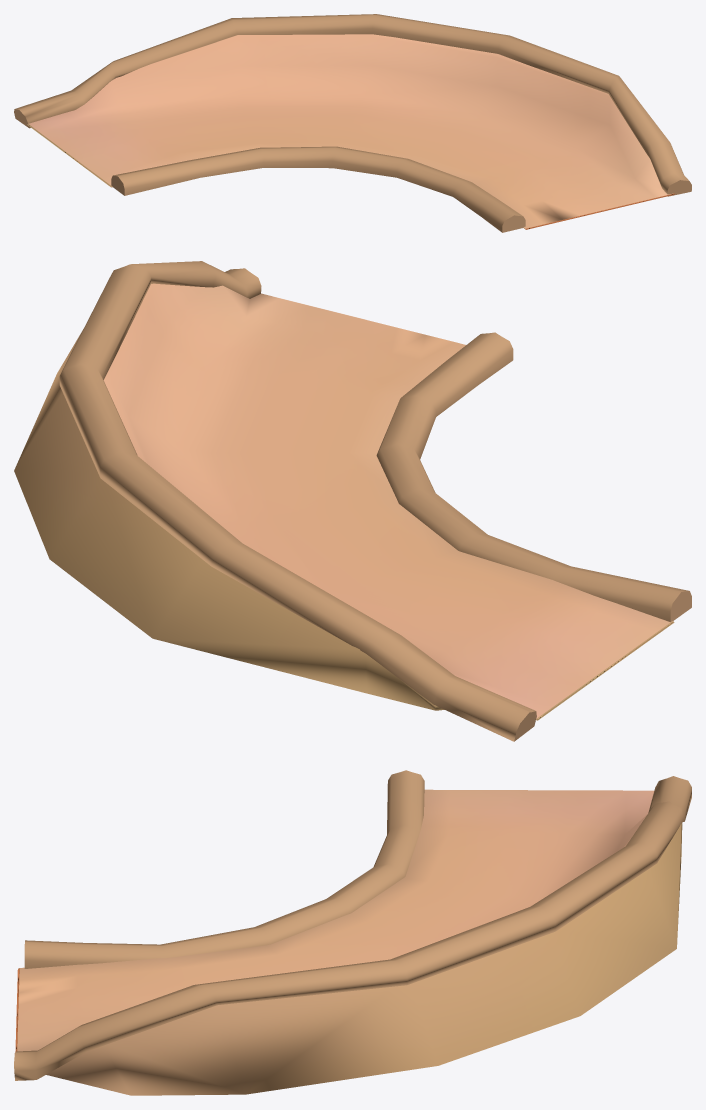
Rendered from DirtBikeSandTrackWithBarriersCurvedBerm.glb.
The picture shows the model from 3 angles, top to bottom: view 1: azimuth 30°, elevation 25°; view 2: azimuth 150°, elevation 25°; view 3: azimuth 270°, elevation 25°; orthographic projection. The views are drawn at different scales.
Visible parts, largest first — view 1: DirtBikeSandTrackWithBarriersCurvedBerm; view 2: DirtBikeSandTrackWithBarriersCurvedBerm; view 3: DirtBikeSandTrackWithBarriersCurvedBerm.
Part boxes in pixels (x1=…): DirtBikeSandTrackWithBarriersCurvedBerm: x1=14, y1=14, x2=691, y2=232; DirtBikeSandTrackWithBarriersCurvedBerm: x1=14, y1=261, x2=691, y2=741; DirtBikeSandTrackWithBarriersCurvedBerm: x1=14, y1=770, x2=691, y2=1095.
Size of the model in its own units: 12.35 by 1.79 by 11.57.
1 material, 1 textured.
